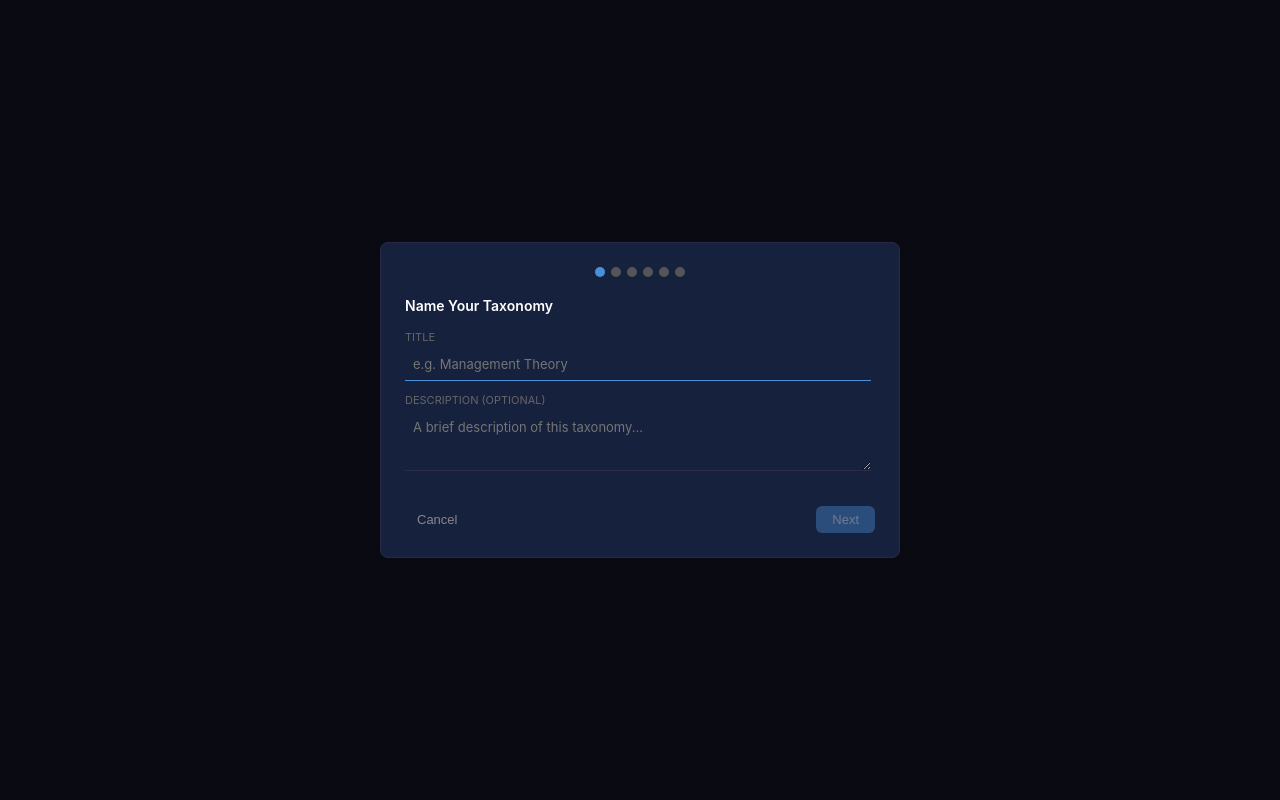
Scenario: TaxonomyWizard › node types step: can add a new node type
Type "Test Map" into the field with placeholder "e.g. Management Theory". click: x=638, y=364
box: [405,348,871,381]
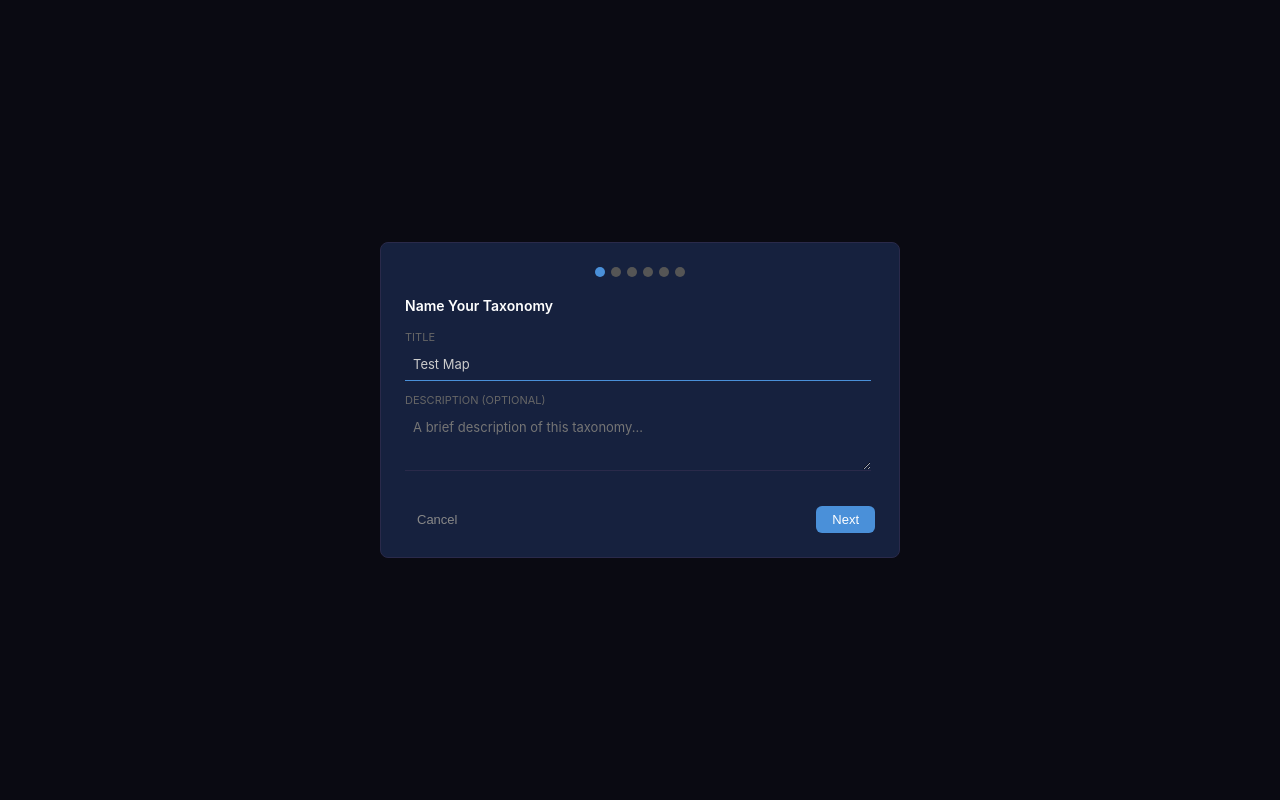
Click the button "Next". click: x=846, y=520
box: [816,506,875,533]
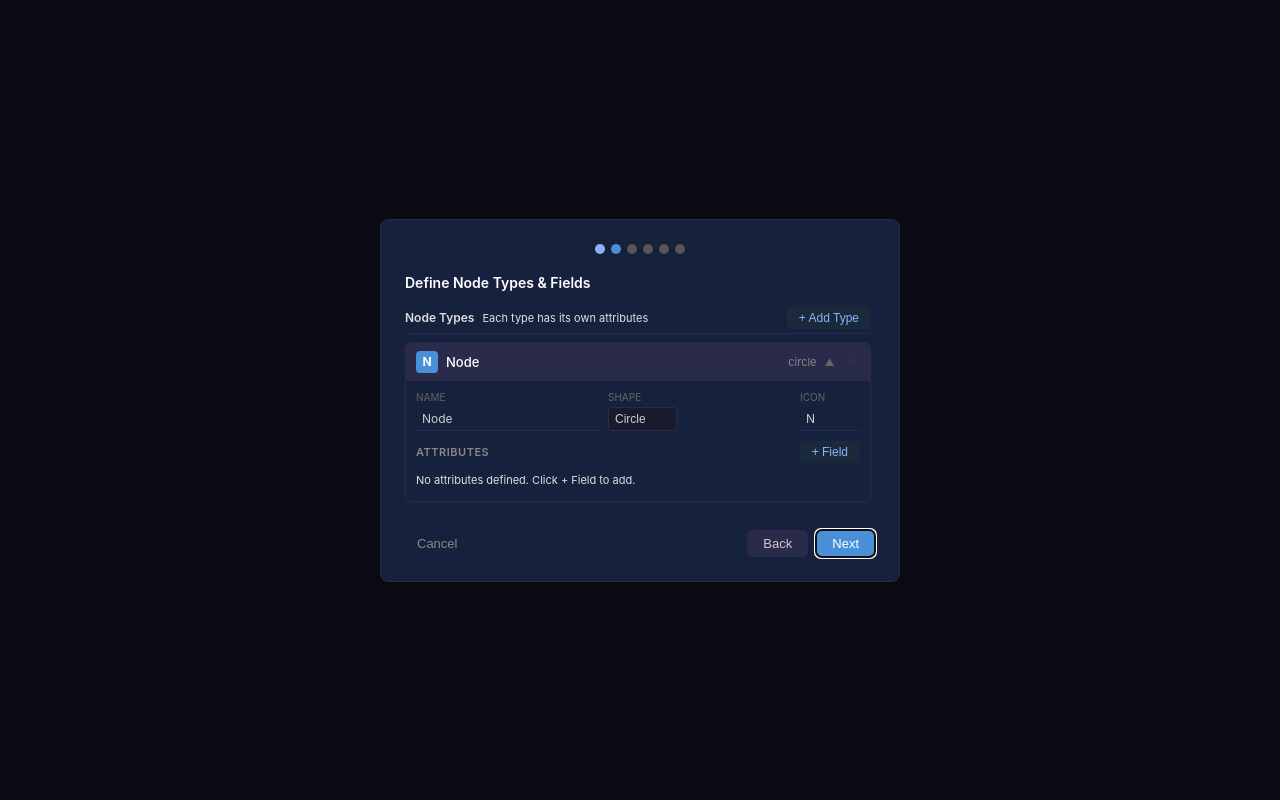
Click the button "+ Add Type". click: x=829, y=318
box: [787,306,871,328]
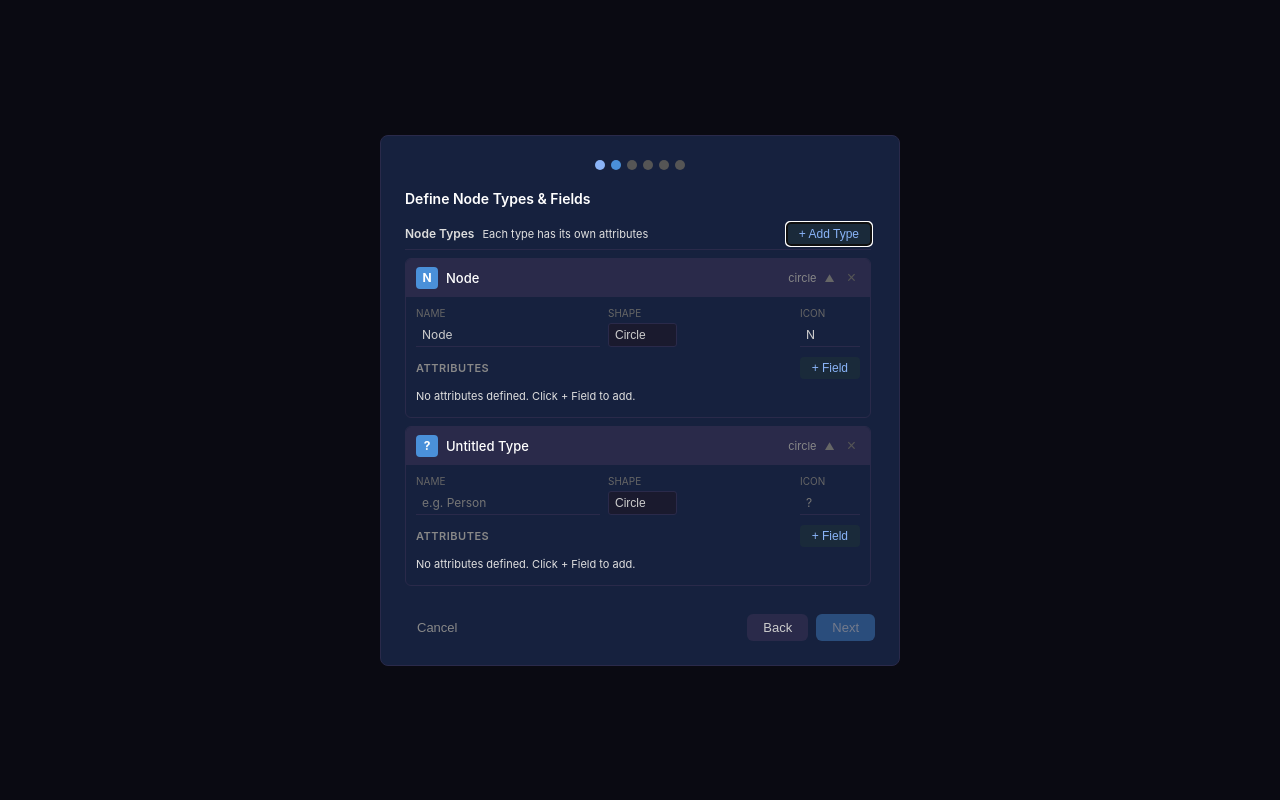
Expected: the text "Untitled Type" is shown, [446,438,529,454]
